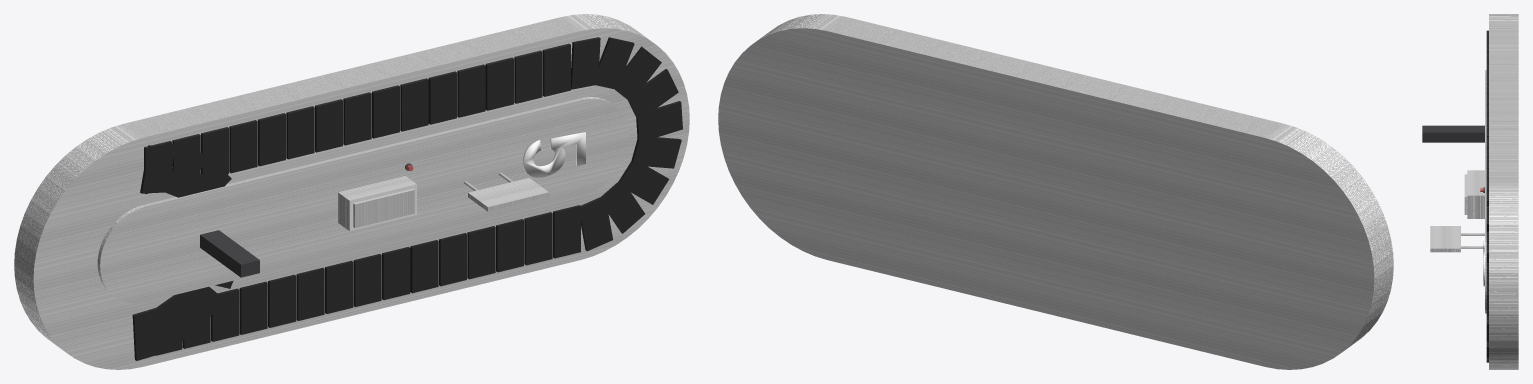
Rendered from Đảo nhận hành lý 5.glb.
3 views of the same model, side by side, from view 1: azimuth 30°, elevation 25°; view 2: azimuth 150°, elevation 25°; view 3: azimuth 270°, elevation 25° (orthographic). The views are drawn at different scales.
Visible parts, largest first — view 1: conveyor_belt, frame, center_platform, service_box, information_screen_frame, number_sign_body, number_node_5; view 2: frame; view 3: frame, number_sign_body, conveyor_belt, service_box, information_screen_frame, center_platform.
Boxes of the visible parts, box(x1,y1,x2,y2) form: conveyor_belt: box(132, 37, 682, 360); frame: box(14, 14, 689, 369); center_platform: box(97, 97, 628, 303); service_box: box(338, 176, 416, 231); information_screen_frame: box(464, 172, 549, 211); number_sign_body: box(200, 230, 259, 277); number_node_5: box(523, 131, 585, 177); frame: box(718, 14, 1393, 369); frame: box(1489, 14, 1518, 369); number_sign_body: box(1422, 125, 1484, 142); conveyor_belt: box(1486, 30, 1488, 362); service_box: box(1464, 170, 1484, 218); information_screen_frame: box(1430, 226, 1484, 252); center_platform: box(1485, 70, 1486, 313).
Bounding box in the file's own units: 18 × 6 × 3.
Materials: 8 (7 with a texture image).
